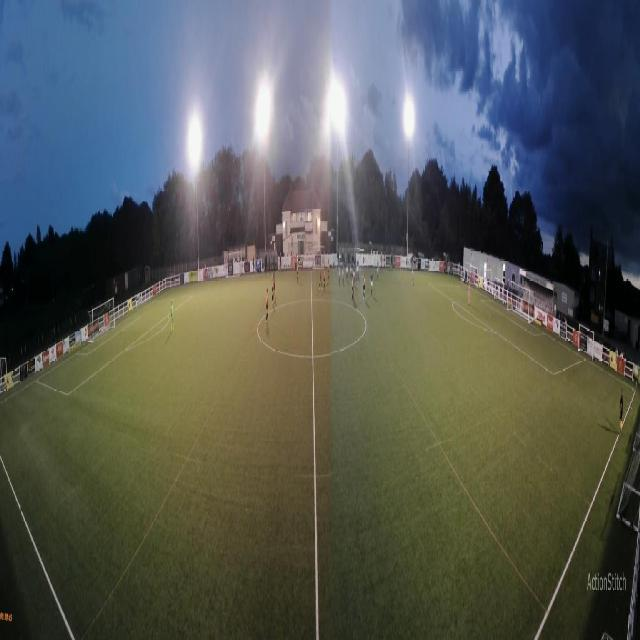player: (265, 288, 269, 323), (171, 300, 175, 332), (319, 263, 323, 290), (273, 271, 276, 302), (272, 275, 275, 305), (363, 272, 366, 301), (370, 271, 373, 297), (323, 266, 326, 291), (327, 258, 330, 283), (296, 260, 299, 284), (349, 258, 352, 280), (346, 259, 349, 280), (376, 259, 379, 280), (352, 270, 354, 299), (352, 275, 354, 303), (339, 261, 341, 285), (342, 260, 344, 284), (412, 260, 414, 284), (468, 282, 470, 306), (357, 258, 359, 280), (353, 264, 355, 284), (357, 260, 359, 279)
